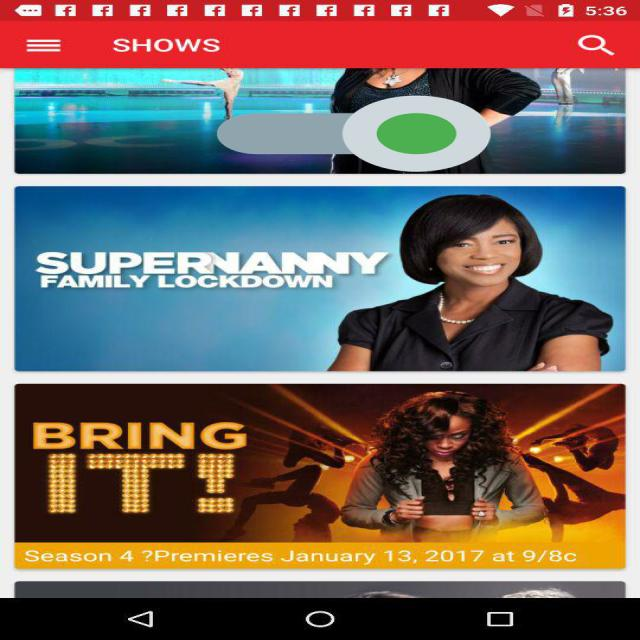social proof: (217, 63, 491, 204)
